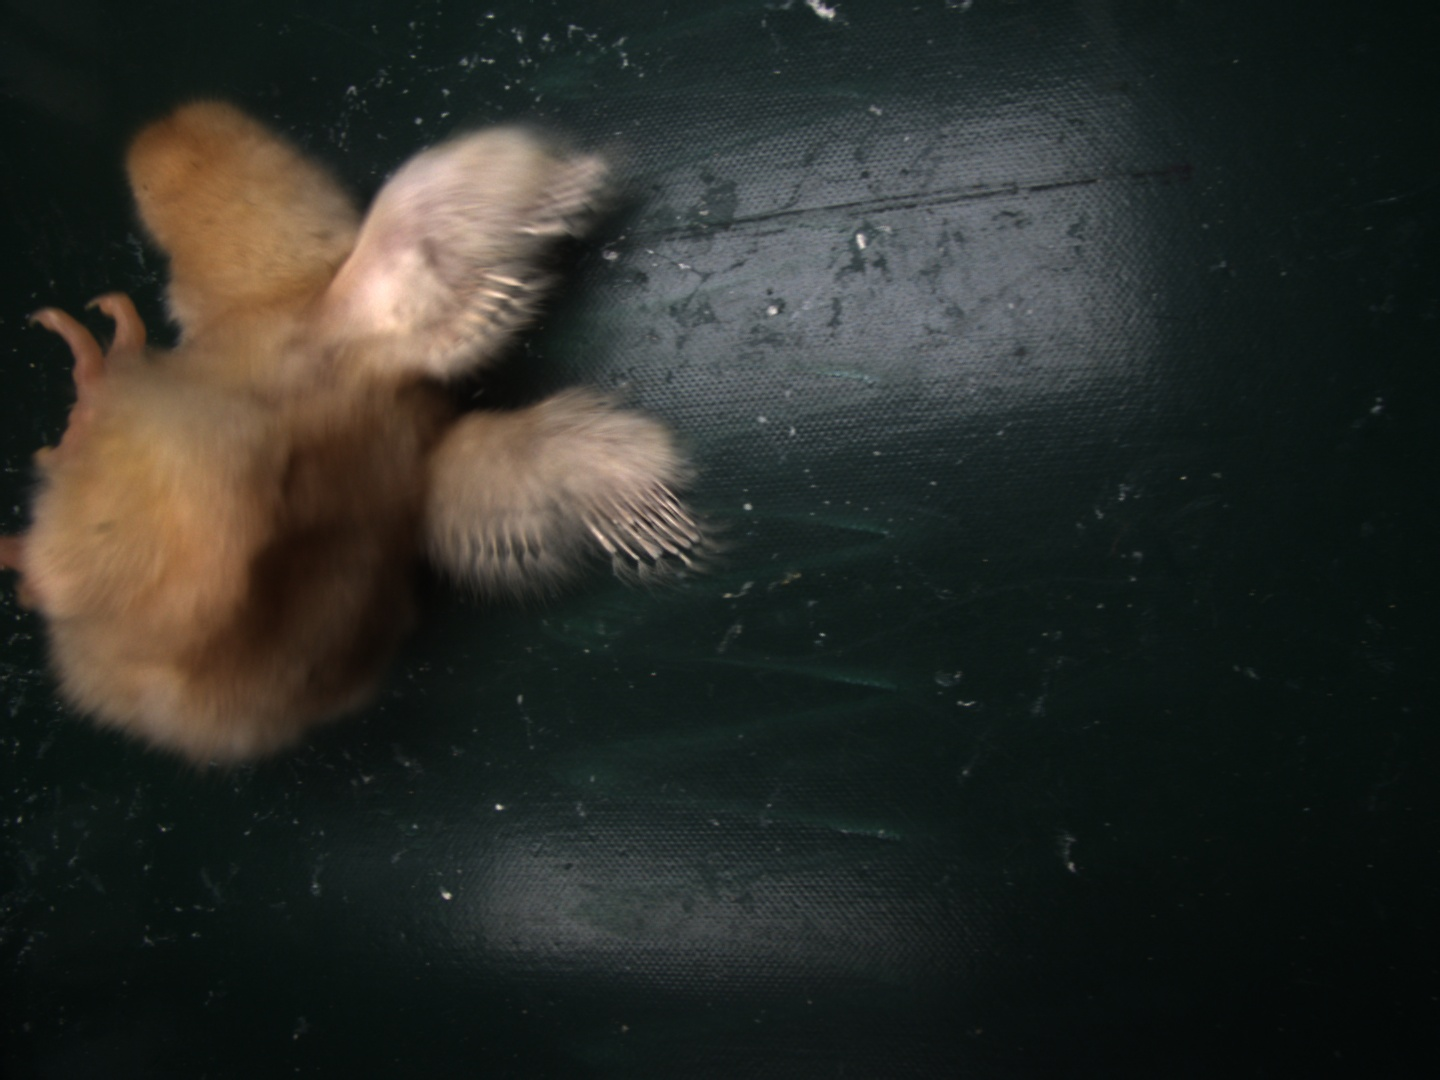female: (581, 475, 704, 566)
